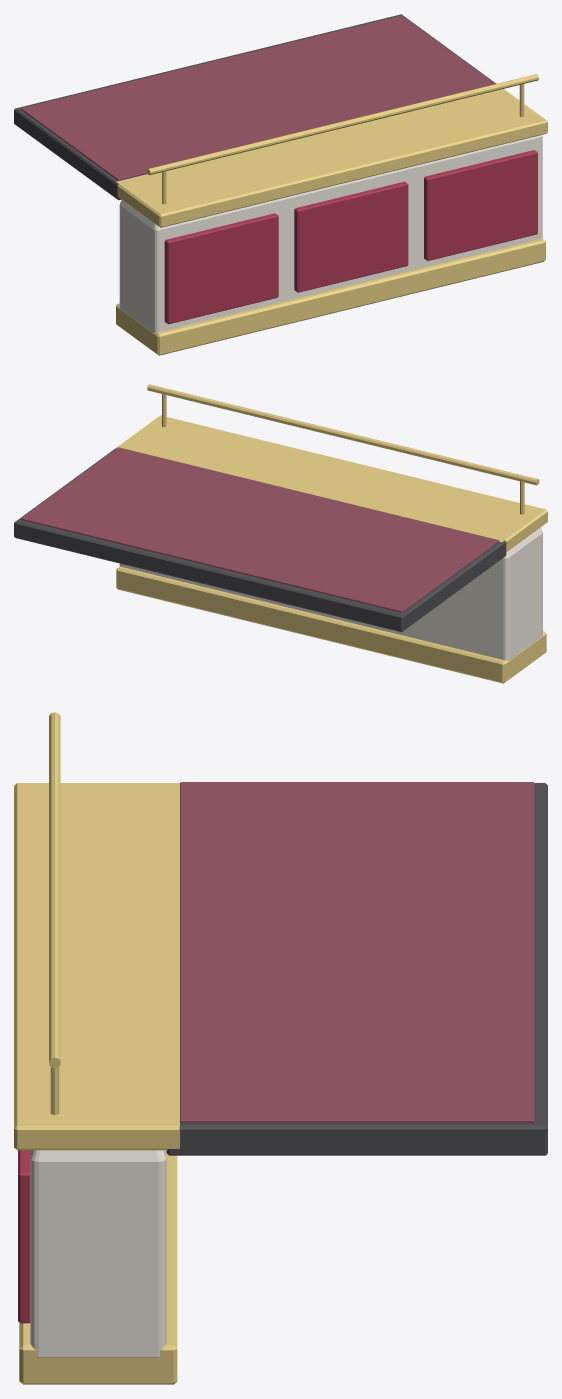
The model's file is theatre-stage-and-backstage-circle-balcony-front-secti-6fc1787e__35896.glb.
The picture shows the model from 3 angles, top to bottom: view 1: azimuth 30°, elevation 25°; view 2: azimuth 150°, elevation 25°; view 3: azimuth 270°, elevation 25°; orthographic projection. The views are drawn at different scales.
Visible parts, largest first — view 1: circle-balcony-front-section; view 2: circle-balcony-front-section; view 3: circle-balcony-front-section.
Boxes of the visible parts, <box> form: circle-balcony-front-section: <box>14,14,547,355</box>; circle-balcony-front-section: <box>14,384,547,683</box>; circle-balcony-front-section: <box>14,712,547,1384</box>.
Size of the model in its own units: 3 by 1.33 by 1.96.
